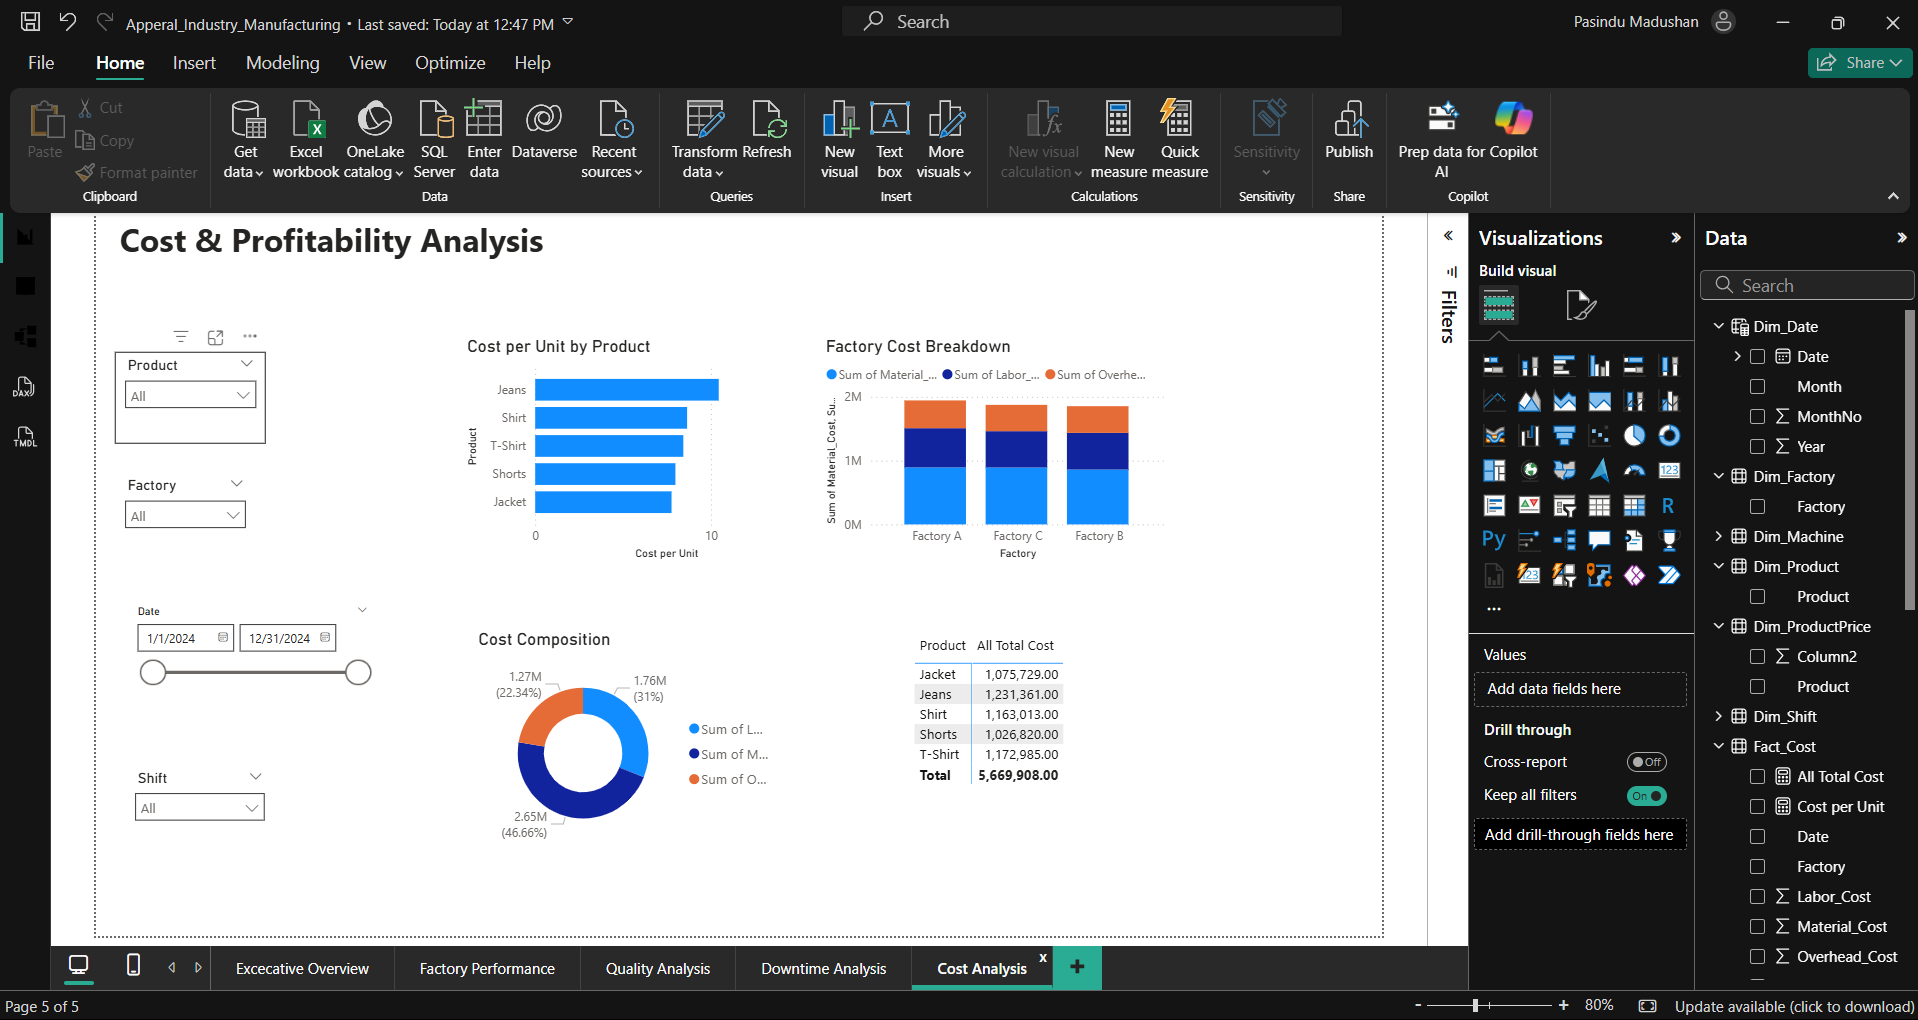

Layout of this report page (visuals, bound fields, positions):
{"tool":"powerbi","page":{"name":"Cost Analysis","canvas":[1280,720],"ordinal":4},"visuals":[{"type":"slicer","fields":{"Values":["Fact_Production.Date"]},"box":[28.6,384.4,253.8,92.1],"z":0},{"type":"slicer","fields":{"Values":["Dim_Product.Product"]},"box":[18.7,138.1,150.5,92.1],"z":1000},{"type":"slicer","fields":{"Values":["Dim_Factory.Factory"]},"box":[18.7,257.5,140.6,92.1],"z":2000},{"type":"slicer","fields":{"Values":["Dim_Shift.Shift"]},"box":[28.6,548.6,149.3,93.3],"z":3000},{"type":"textbox","box":[19.2,0,665.5,81],"z":4000},{"type":"barChart","fields":{"Category":["Dim_Product.Product"],"Y":["Fact_Cost.Cost per Unit"]},"box":[364.5,121.9,347.1,227.6],"z":4001},{"type":"columnChart","title":"Factory Cost Breakdown","fields":{"Category":["Dim_Factory.Factory"],"Y":["Sum(Fact_Cost.Material_Cost)","Sum(Fact_Cost.Labor_Cost)","Sum(Fact_Cost.Overhead_Cost)"]},"box":[721,122,347,228],"z":4002},{"type":"donutChart","title":"Cost Composition","fields":{"Y":["Sum(Fact_Cost.Labor_Cost)","Sum(Fact_Cost.Material_Cost)","Sum(Fact_Cost.Overhead_Cost)"]},"box":[375.7,414.2,308.5,227.6],"z":4003},{"type":"pivotTable","fields":{"Rows":["Dim_Product.Product"],"Values":["Fact_Cost.All Total Cost"]},"box":[809.8,414.2,201.5,227.6],"z":4004}]}

Visuals, with their boxes on the page's 1280x720 design canvas (x1, y1, x2, y2). These are canvas units, not pixel positions in the 1918x1020 screenshot, which may show the page scaled, cropped or inside an application window:
slicer - Fact_Production.Date: BBox(29, 384, 282, 476)
slicer - Dim_Product.Product: BBox(19, 138, 169, 230)
slicer - Dim_Factory.Factory: BBox(19, 258, 159, 350)
slicer - Dim_Shift.Shift: BBox(29, 549, 178, 642)
textbox: BBox(19, 0, 685, 81)
barChart - Dim_Product.Product x Fact_Cost.Cost per Unit: BBox(364, 122, 712, 350)
"Factory Cost Breakdown" columnChart: BBox(721, 122, 1068, 350)
"Cost Composition" donutChart: BBox(376, 414, 684, 642)
pivotTable - Dim_Product.Product x Fact_Cost.All Total Cost: BBox(810, 414, 1011, 642)
